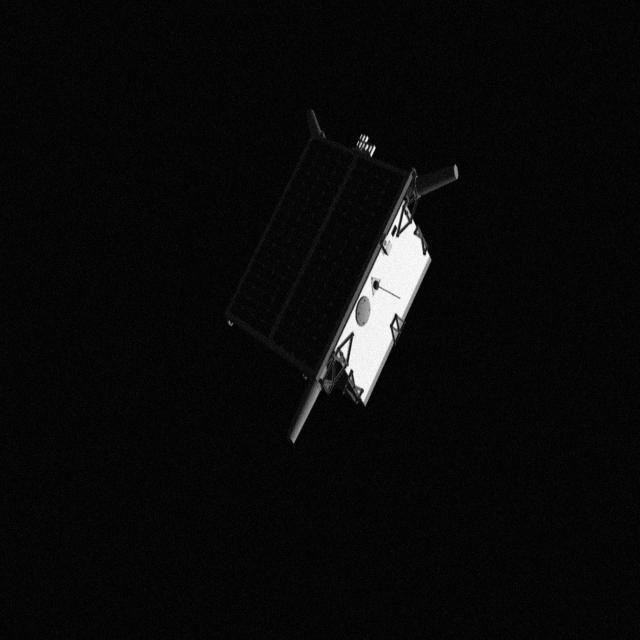satellite: (220, 94, 464, 432)
